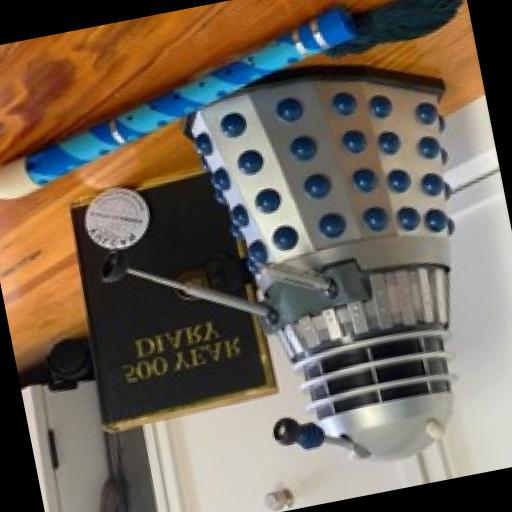dalek: (57, 37, 512, 512)
